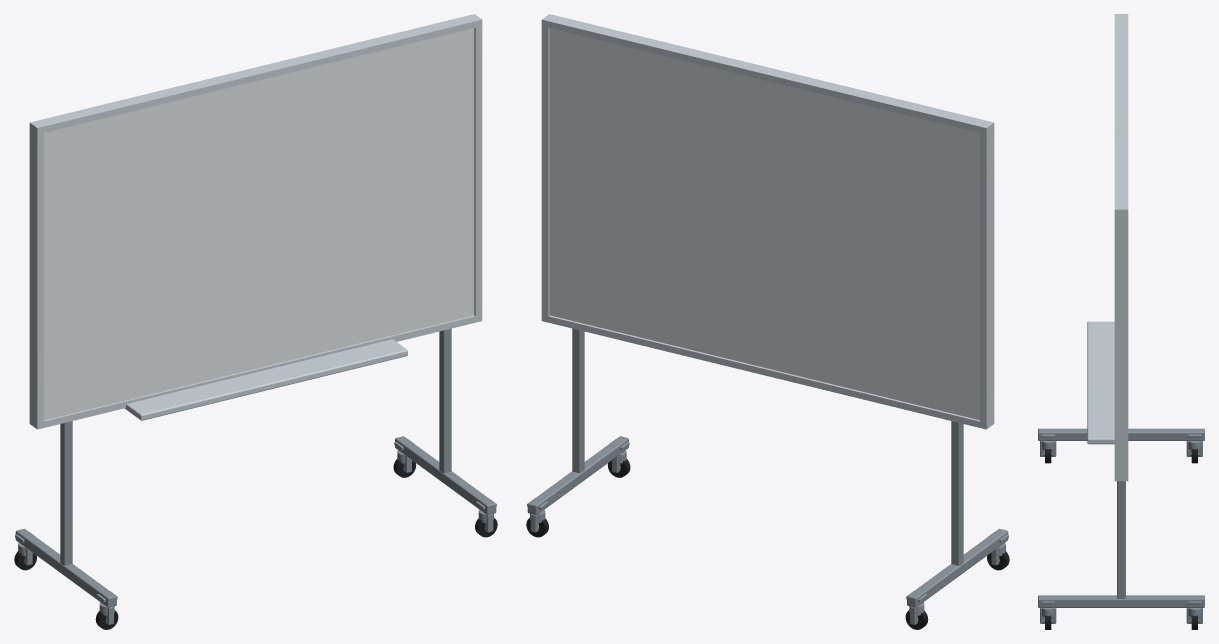
The model's file is mobile-tactics-whiteboard.glb.
The picture shows the model from 3 angles, left to right: view 1: azimuth 30°, elevation 25°; view 2: azimuth 150°, elevation 25°; view 3: azimuth 270°, elevation 25°; orthographic projection. The views are drawn at different scales.
Visible parts, largest first — view 1: Double-sided writing board, Continuous whiteboard perimeter frame, Marker tray, Board upright, Board upright.001, Board floor rail.001, Board floor rail; view 2: Double-sided writing board, Continuous whiteboard perimeter frame, Board upright, Board upright.001, Board floor rail.001, Board floor rail; view 3: Continuous whiteboard perimeter frame, Marker tray, Board floor rail.001, Board floor rail, Board upright.001.
Boxes of the visible parts, box(x1,y1,x2,y2) form: Double-sided writing board: box(44, 28, 474, 419); Continuous whiteboard perimeter frame: box(29, 14, 482, 429); Marker tray: box(124, 339, 407, 420); Board upright: box(60, 421, 72, 565); Board upright.001: box(439, 328, 451, 473); Board floor rail.001: box(395, 436, 496, 514); Board floor rail: box(15, 528, 116, 607); Double-sided writing board: box(549, 28, 979, 419); Continuous whiteboard perimeter frame: box(541, 14, 994, 429); Board upright: box(951, 421, 963, 565); Board upright.001: box(572, 328, 584, 473); Board floor rail.001: box(527, 436, 628, 514); Board floor rail: box(907, 528, 1008, 607); Continuous whiteboard perimeter frame: box(1114, 14, 1128, 481); Marker tray: box(1087, 321, 1114, 444); Board floor rail.001: box(1038, 595, 1204, 607); Board floor rail: box(1038, 428, 1204, 440); Board upright.001: box(1117, 481, 1125, 598).
Bounding box in the file's own units: 1.83 × 1.89 × 0.66.
4 materials, 4 textured.
